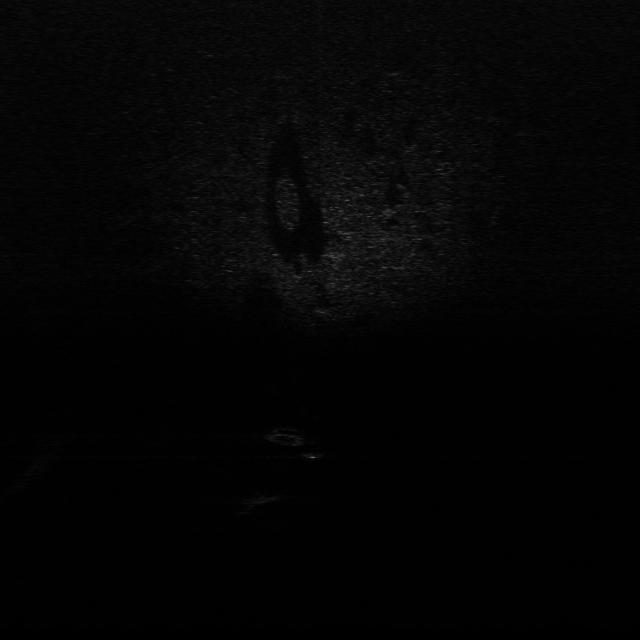ball: (300, 441, 326, 462)
square cage: (244, 486, 290, 506)
tyre: (267, 424, 309, 448)
